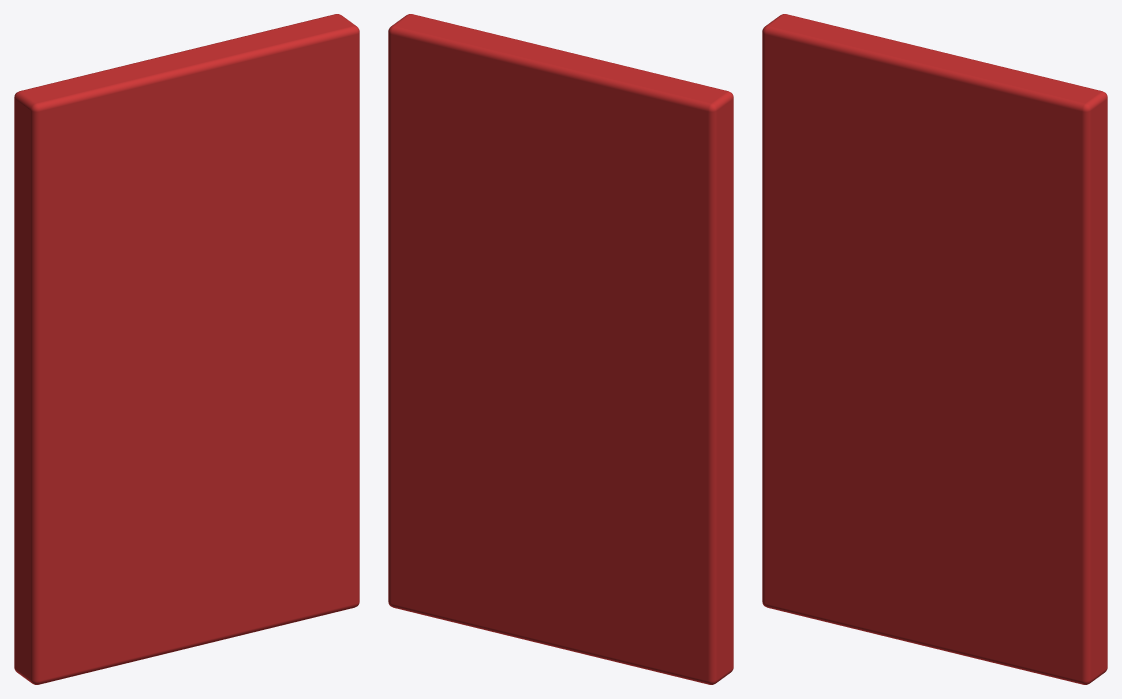
File: switch-case.glb
3 renders of one model, left to right at view 1: azimuth 30°, elevation 25°; view 2: azimuth 150°, elevation 25°; view 3: azimuth 330°, elevation 25°, orthographic.
Bounding box in the file's own units: 1.95 × 3.3 × 0.23.
